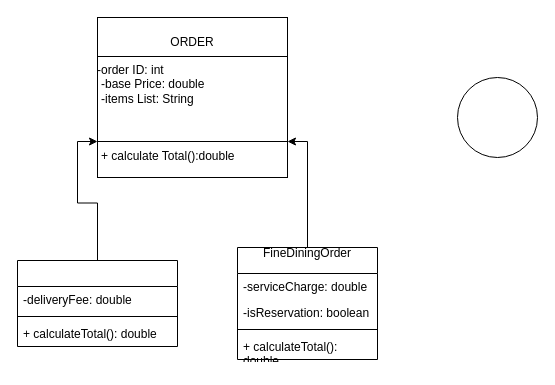
Some shapes in this 555 by 385 pixel diagram are drawn without their labels. The box of each missing label's shape, as (x1, y1, x2, y2) in pixels:
FastFoodOrder: (16, 260, 178, 346)
عبدالرحمن سعيد احمد 202410717 د.جلال: (456, 76, 538, 158)
